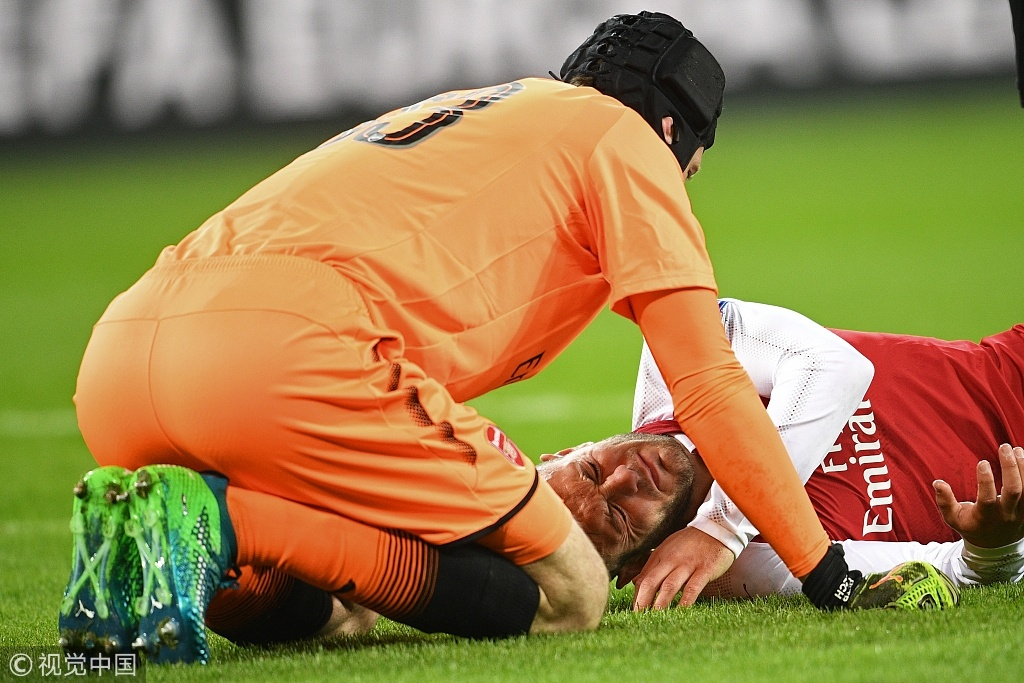falling: (52, 7, 955, 668)
